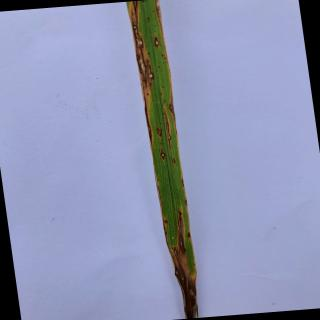Blast: (131, 24, 148, 88), (164, 111, 174, 150), (146, 64, 154, 86), (177, 213, 185, 232), (178, 235, 186, 252), (173, 247, 181, 263), (178, 272, 187, 285), (153, 36, 161, 49), (159, 148, 166, 162), (155, 126, 163, 138), (133, 0, 138, 16), (168, 101, 174, 113), (175, 268, 180, 278), (181, 178, 185, 188), (164, 218, 169, 225), (184, 199, 188, 206), (173, 157, 176, 165)
